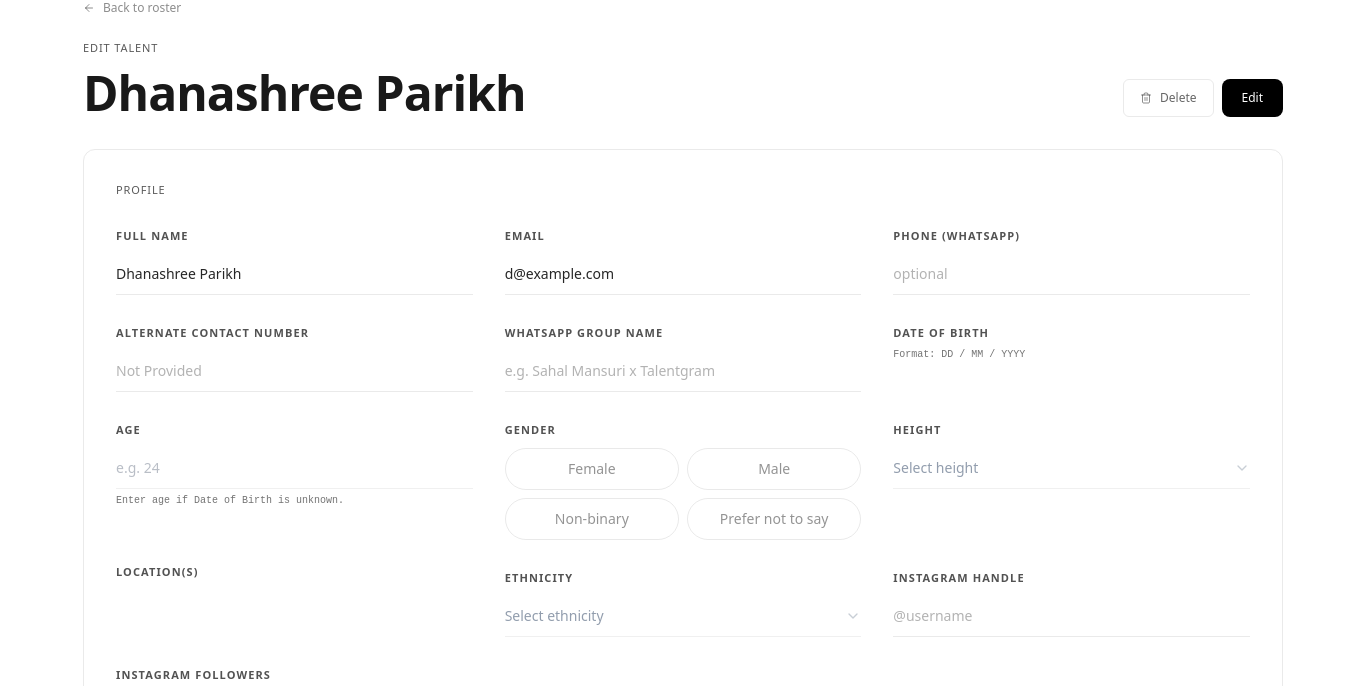
Test: TalentEdit — Internal Tags multi-select › assigned tags update correctly and are never offered again in the dropdown
Click the button "Edit": (1252, 98) [1222,78,1283,116]
(page scrolled)
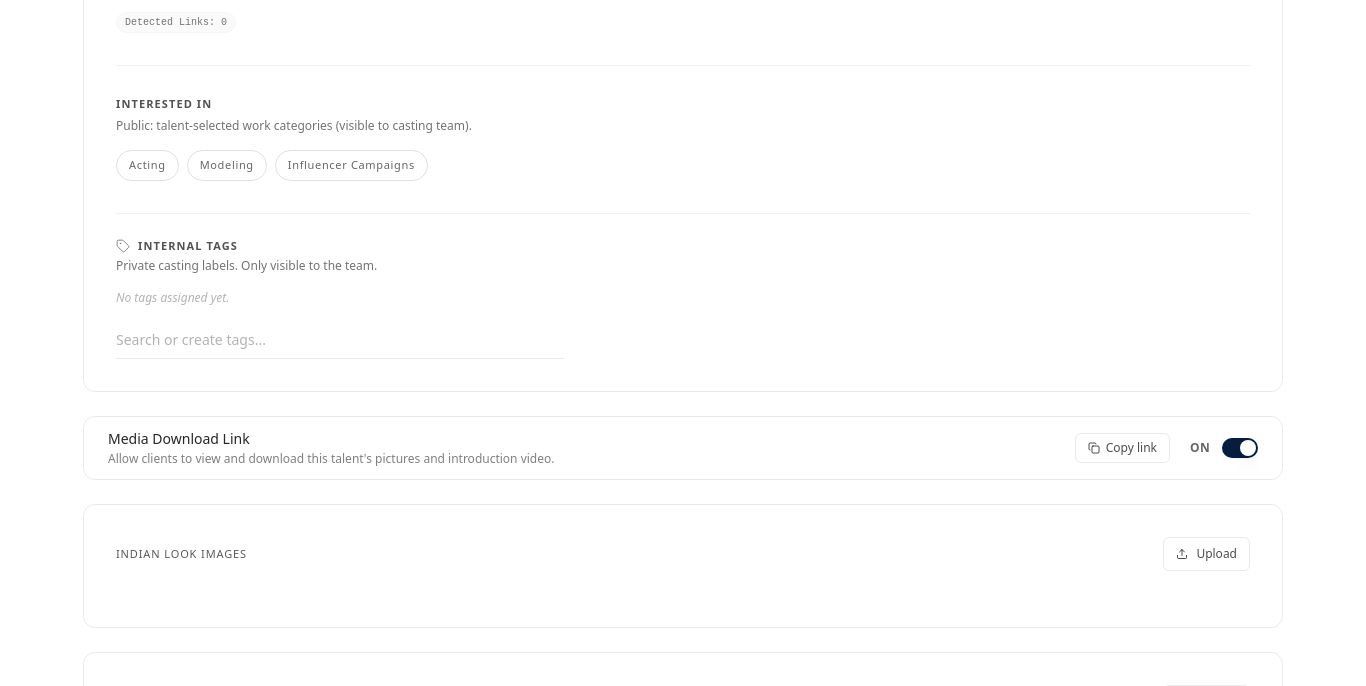
Now the field with test id "tag-input" is shown
Focus the field with test id "tag-input": (340, 341) [116,322,564,359]
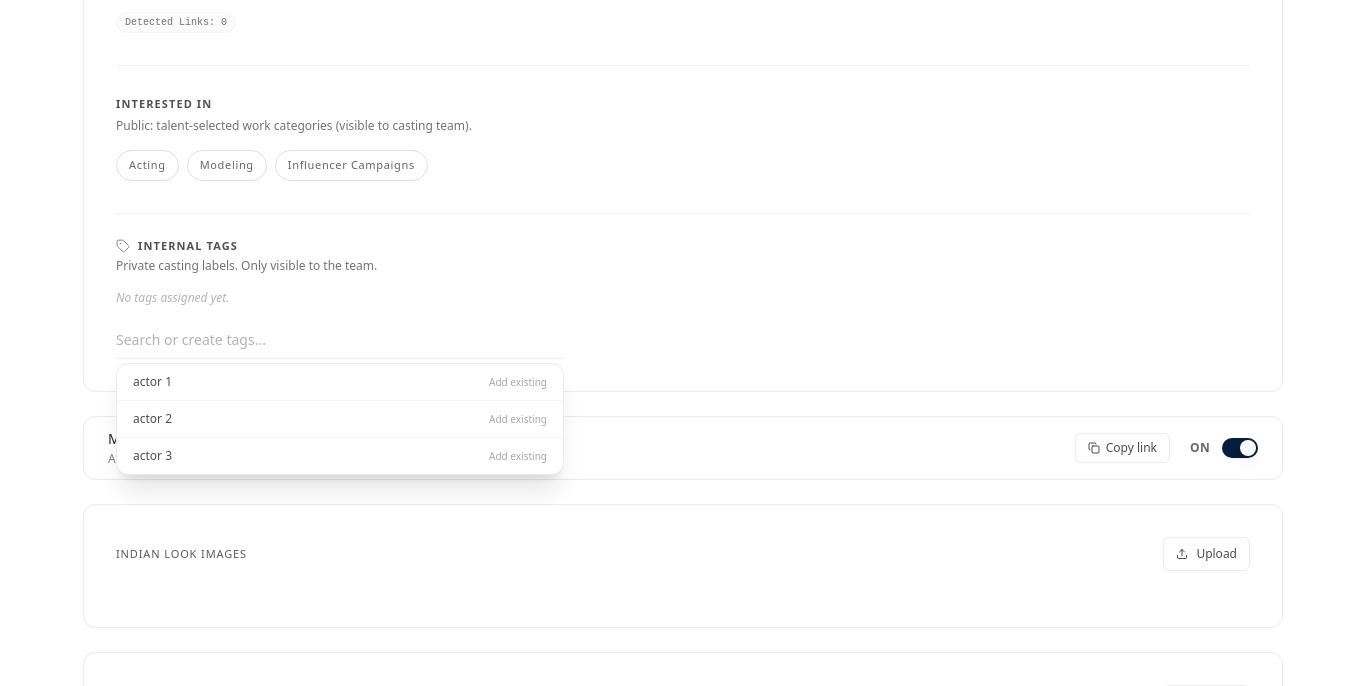
Now the button with test id "profile-tag-option-t1" is shown
Click the button with test id "profile-tag-option-t1": (153, 382) [117,364,563,400]
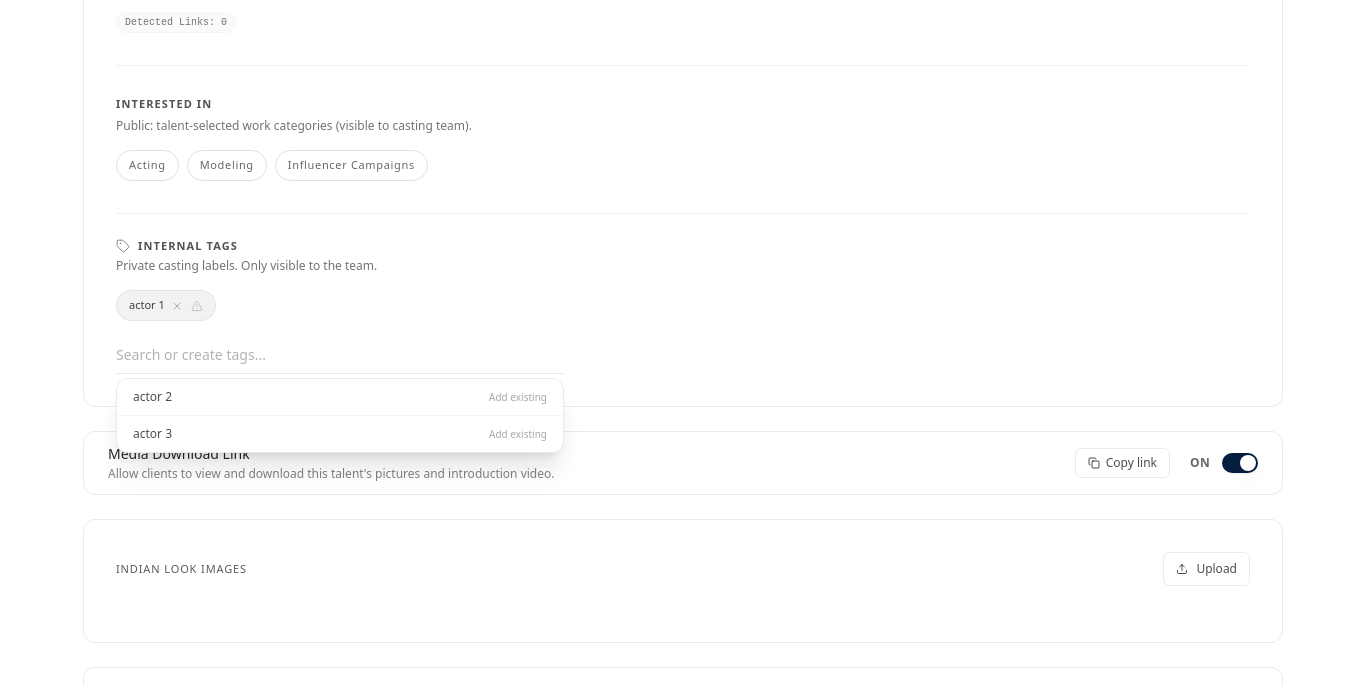
Now the element with test id "talent-tag-t1" is shown, box [116,290,216,321]
Now the button with test id "profile-tag-option-t1" is gone
